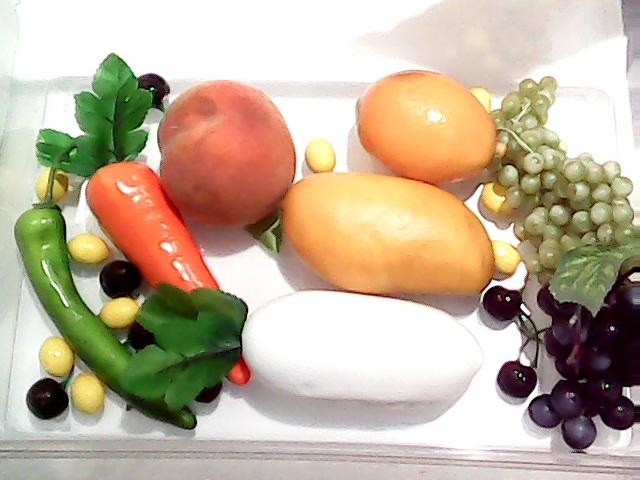carrot: (39, 54, 252, 386)
grape: (485, 71, 639, 291), (527, 269, 640, 467)
lemon: (337, 60, 515, 184)
mango: (279, 172, 497, 298)
peach: (156, 79, 294, 230)
pepper: (10, 142, 198, 430)
radish: (127, 284, 486, 408)
